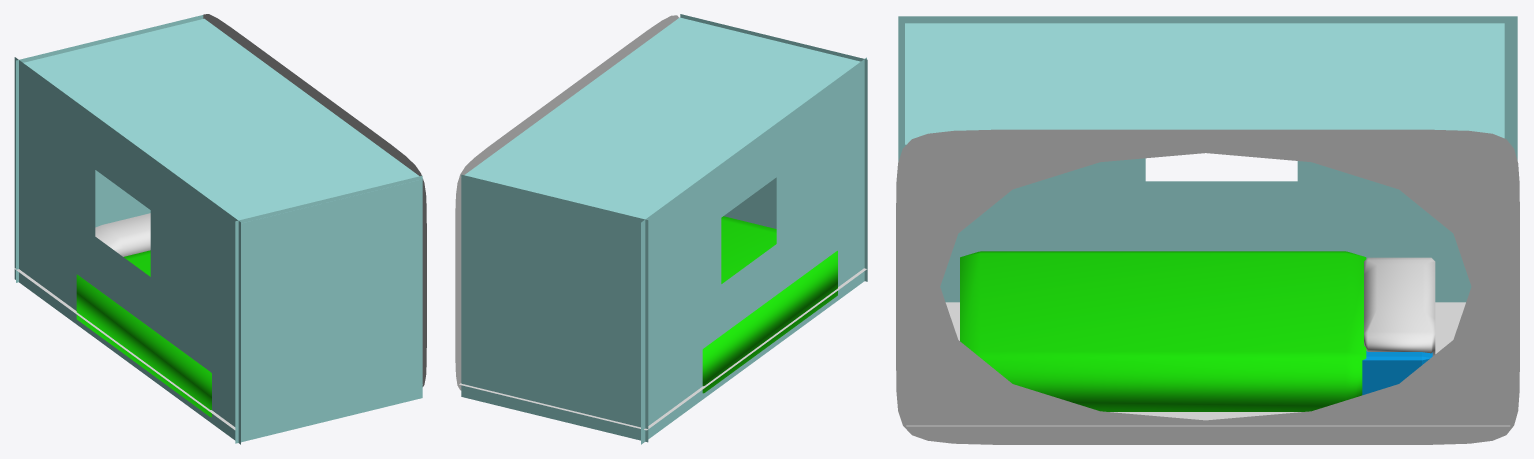
Rendered from Crew Quaters 3.fbx.
The picture shows the model from 3 angles, left to right: view 1: azimuth 30°, elevation 25°; view 2: azimuth 150°, elevation 25°; view 3: azimuth 270°, elevation 25°; orthographic projection. The views are drawn at different scales.
Visible parts, largest first — view 1: Plane.004, Plane.001, Plane.002, Cube.001, Plane, Plane.003, Cube.002, Plane.005; view 2: Plane.003, Plane.001, Plane.002, Cube.001, Plane, Plane.004, Plane.005; view 3: Plane, Plane.002, Cube.001, Plane.001, Cube.002, Plane.005.
Part boxes in pixels (left/top/right/bottom): Plane.004: left=235, top=175, right=422, bottom=443; Plane.001: left=14, top=57, right=240, bottom=444; Plane.002: left=23, top=18, right=419, bottom=220; Cube.001: left=76, top=250, right=211, bottom=417; Plane: left=203, top=14, right=426, bottom=386; Plane.003: left=16, top=15, right=203, bottom=282; Cube.002: left=95, top=213, right=150, bottom=256; Plane.005: left=14, top=268, right=235, bottom=429; Plane.003: left=461, top=174, right=648, bottom=442; Plane.001: left=641, top=57, right=866, bottom=444; Plane.002: left=464, top=17, right=860, bottom=219; Cube.001: left=702, top=216, right=837, bottom=393; Plane: left=455, top=15, right=678, bottom=390; Plane.004: left=680, top=14, right=867, bottom=281; Plane.005: left=459, top=268, right=866, bottom=430; Plane: left=896, top=129, right=1519, bottom=444; Plane.002: left=905, top=23, right=1504, bottom=144; Cube.001: left=960, top=251, right=1432, bottom=411; Plane.001: left=898, top=16, right=1517, bottom=302; Cube.002: left=1364, top=257, right=1435, bottom=356; Plane.005: left=906, top=302, right=1509, bottom=426.
Size of the model in its own units: 250 by 292 by 524.
